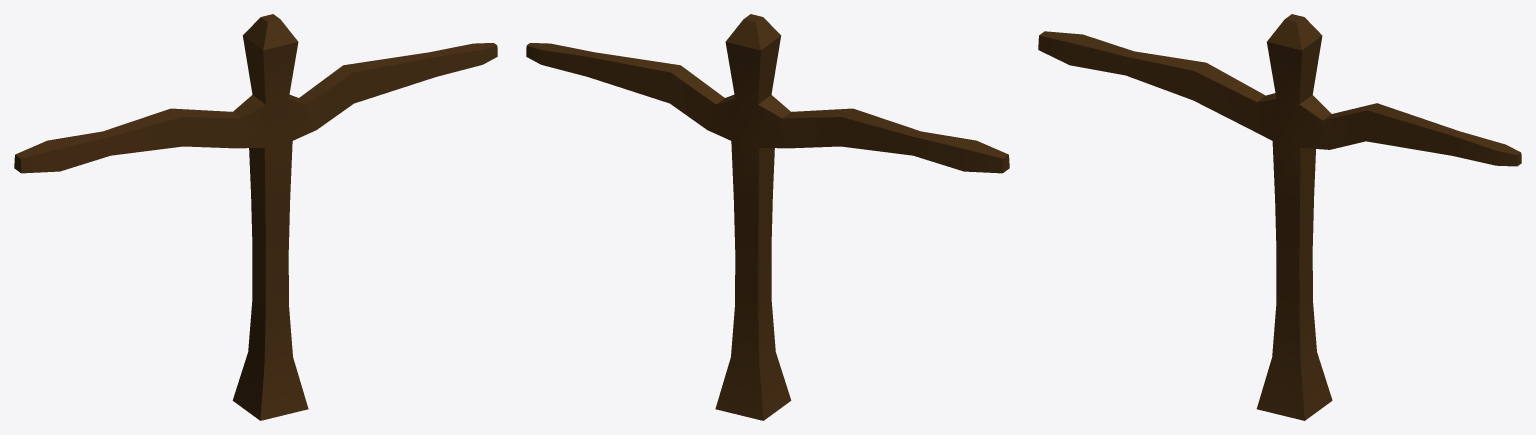
Rendered from ScarePost.fbx.
The picture shows the model from 3 angles, left to right: view 1: azimuth 30°, elevation 25°; view 2: azimuth 150°, elevation 25°; view 3: azimuth 330°, elevation 25°; orthographic projection.
Parts seen in each view (by area): view 1: Cube; view 2: Cube; view 3: Cube.
Part boxes in pixels (x1,y1,x2,y2): Cube: [14, 14, 497, 420]; Cube: [526, 14, 1009, 420]; Cube: [1038, 14, 1521, 420].
Size of the model in its own units: 1317 by 1018 by 133.
